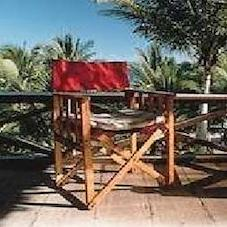chair: (30, 50, 183, 200)
